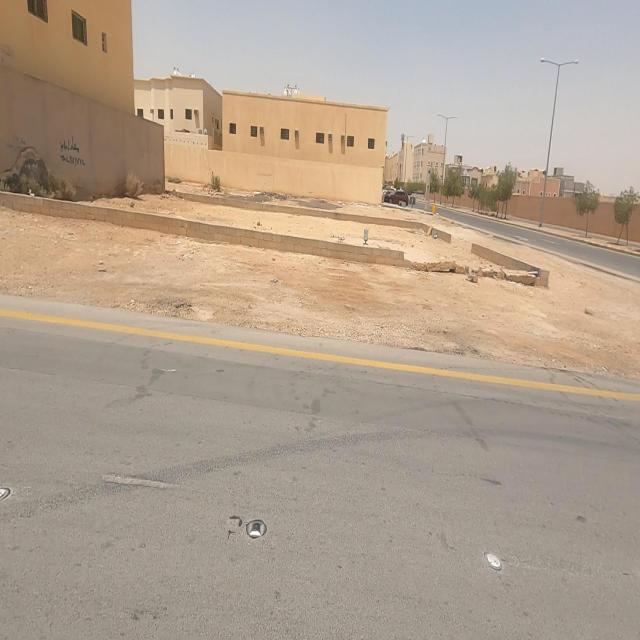Graffiti: (62, 137, 86, 169)
